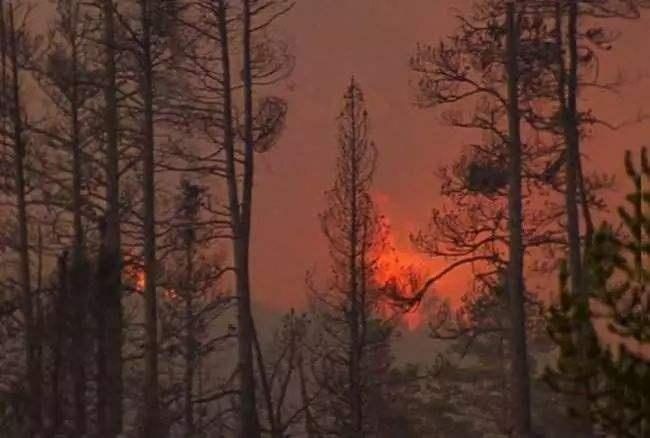fire: (363, 191, 437, 327), (121, 243, 147, 295)
